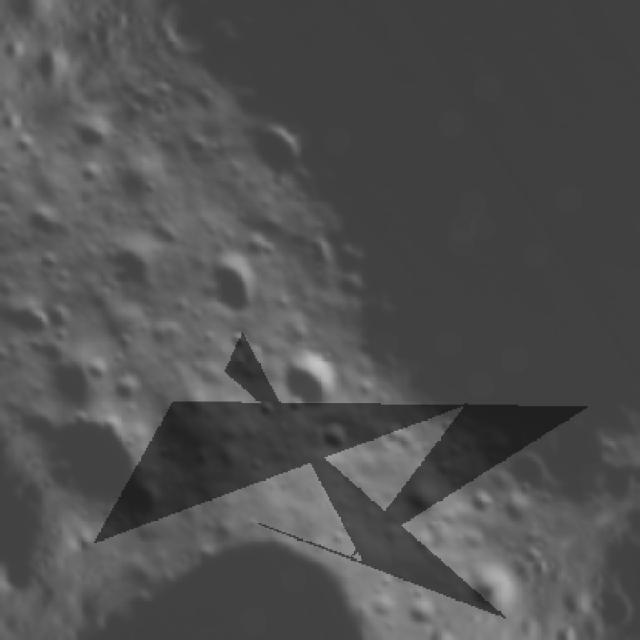crater: (188, 239, 284, 332), (231, 105, 323, 198), (264, 338, 354, 427), (87, 223, 176, 309), (32, 336, 118, 424), (491, 436, 567, 510), (0, 287, 57, 353), (102, 358, 162, 414), (303, 409, 360, 466), (70, 109, 119, 158), (40, 298, 86, 345), (399, 591, 446, 637), (488, 490, 534, 536), (457, 476, 501, 524), (182, 75, 225, 119), (0, 173, 8, 307)
